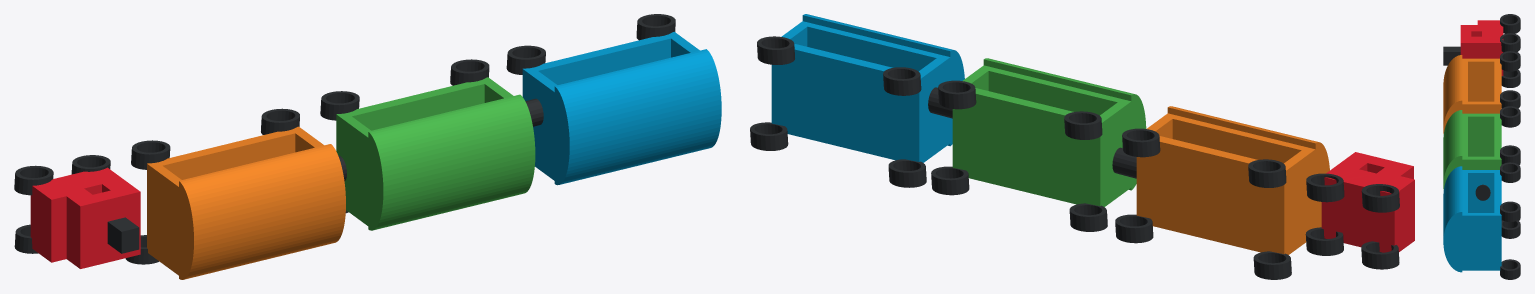
Rendered from tinker.obj.
3 views of the same model, side by side, from view 1: azimuth 30°, elevation 25°; view 2: azimuth 150°, elevation 25°; view 3: azimuth 270°, elevation 25° (orthographic). The views are drawn at different scales.
Parts seen in each view (by area): view 1: group_0_16089887, group_0_4634441, group_0_40919, group_0_2829873, group_0_15277357; view 2: group_0_16089887, group_0_4634441, group_0_40919, group_0_2829873, group_0_15277357; view 3: group_0_40919, group_0_2829873, group_0_4634441, group_0_16089887, group_0_15277357.
Boxes of the visible parts, x1,y1,x2,y2 form: group_0_16089887: (147, 126, 345, 279); group_0_4634441: (336, 77, 535, 230); group_0_40919: (522, 31, 721, 185); group_0_2829873: (14, 14, 675, 264); group_0_15277357: (30, 167, 140, 268); group_0_16089887: (1136, 106, 1329, 254); group_0_4634441: (952, 58, 1146, 206); group_0_40919: (771, 14, 964, 162); group_0_2829873: (750, 36, 1399, 279); group_0_15277357: (1321, 152, 1414, 252); group_0_40919: (1443, 166, 1501, 272); group_0_2829873: (1443, 14, 1520, 279); group_0_4634441: (1443, 110, 1501, 189); group_0_16089887: (1443, 55, 1501, 133); group_0_15277357: (1460, 20, 1503, 75).
Size of the model in its own units: 221 by 36 by 36.
